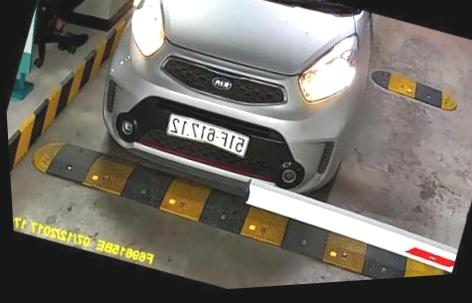License_Plate: (164, 110, 253, 163)
